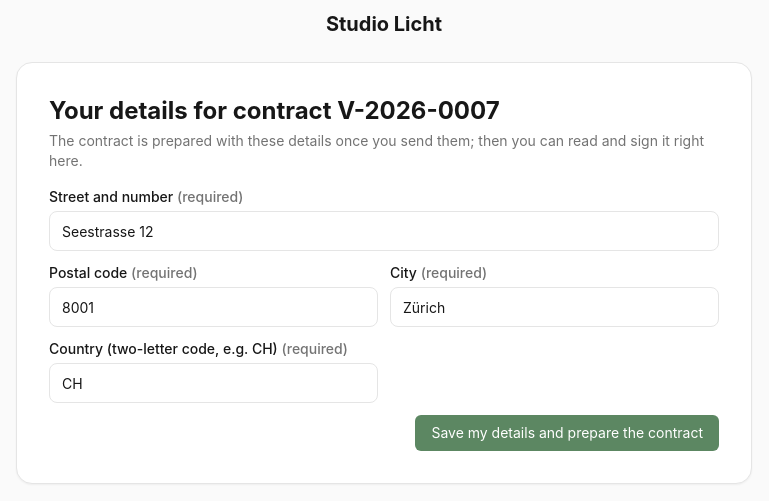
Test case: shows the details as saved when a refresh after a lost response says they arrived
Click the button "Save my details and prepare the contract".
click(567, 433)  # box [415,415,719,451]
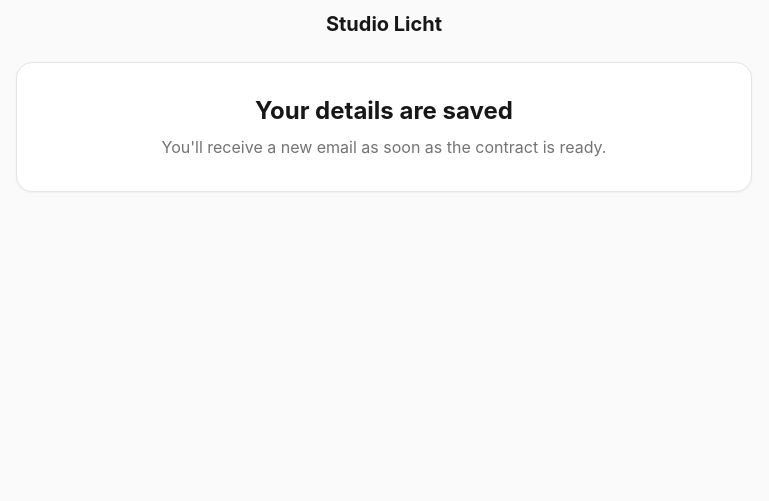
Check: the heading "Your details are saved" is shown, box [255,96,513,125]
Check: the button "Save my details and prepare the contract" is gone
